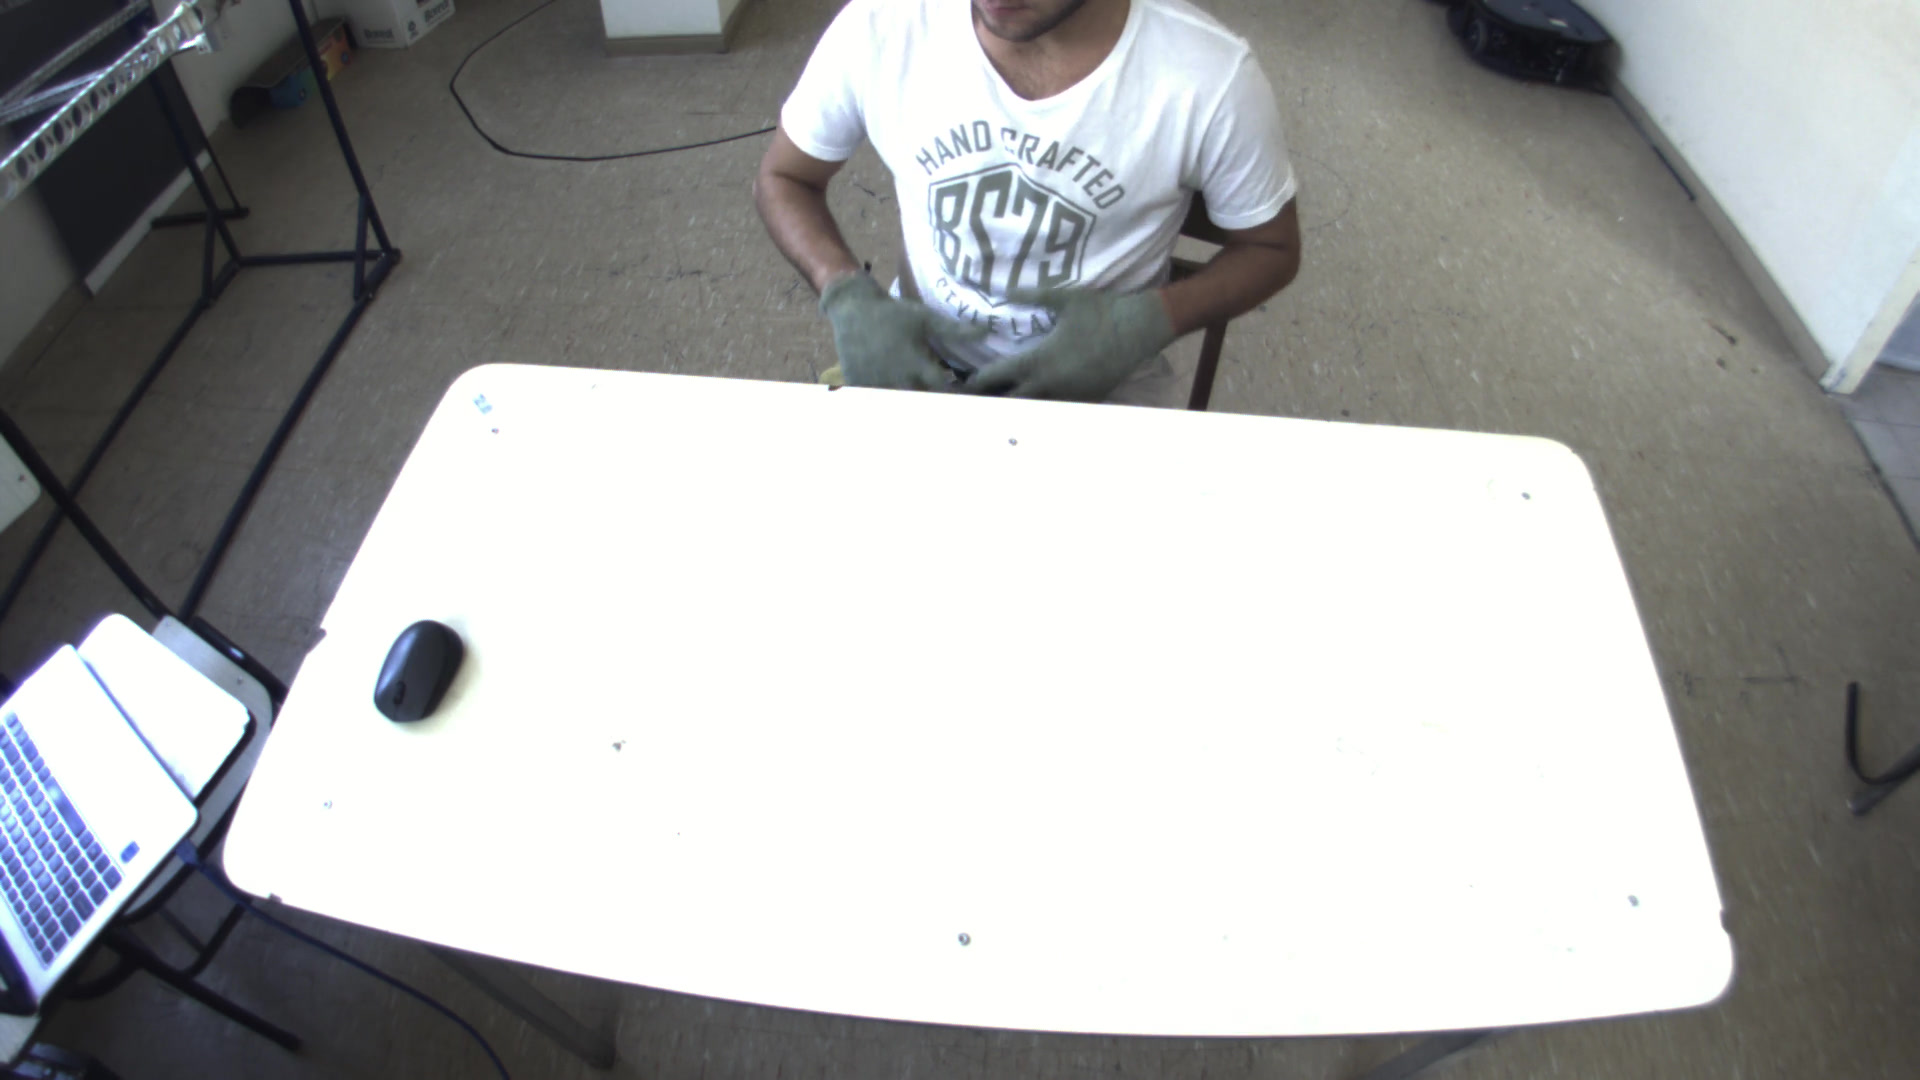hand: (977, 274, 1180, 405), (808, 265, 976, 392)
